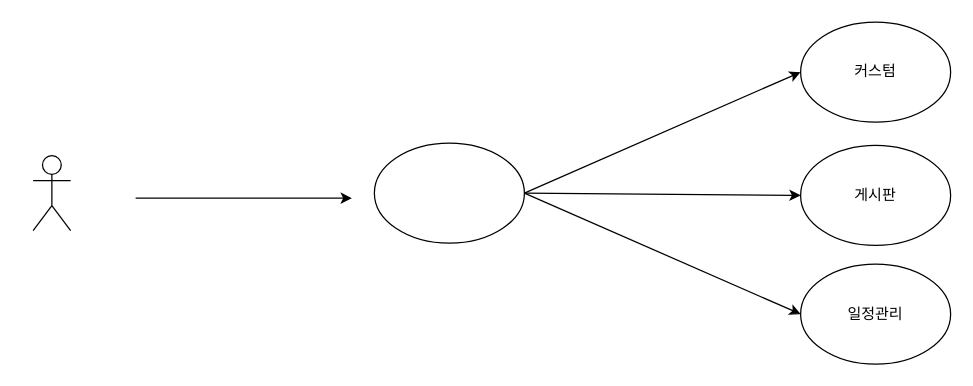
Image size: 973x386. Some labels were removed from this diagram. Here are the shapes that lost their labels. From the top down, the box of each, then its label:
(32, 154, 71, 231): 공통 메뉴
(373, 142, 524, 243): 사이드바
